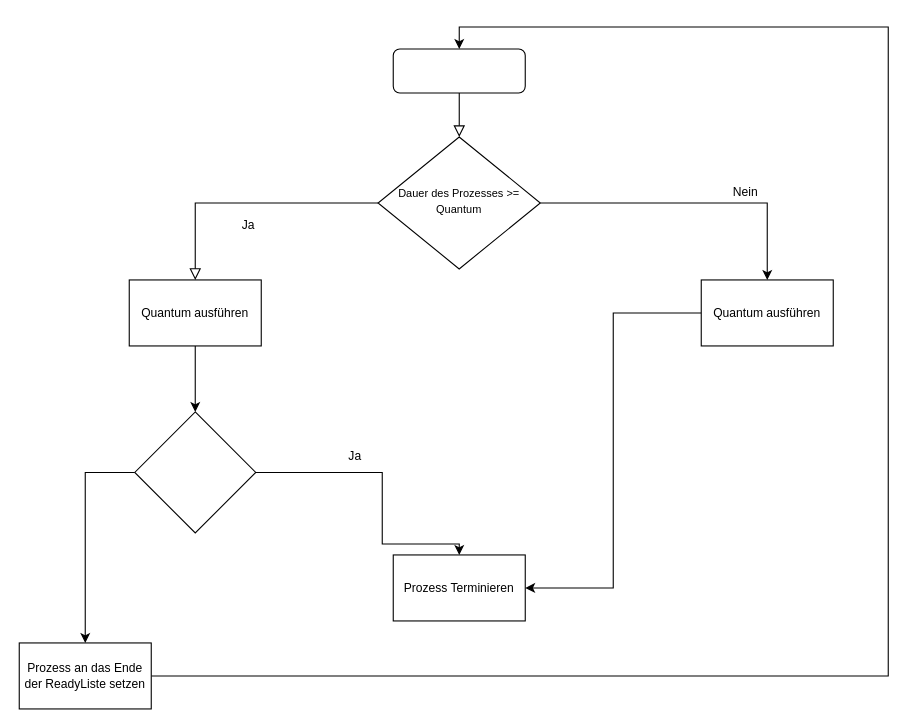
Image size: 916x728. Some labels were removed from this diagram. The shapes that lost their labels are listed below. From the top down, each one's box as (x1, y1, x2, y2) in pixels, then its label:
(392, 48, 525, 93): Process ist im Ready zustand
(134, 411, 256, 533): Prozess Fertig?
